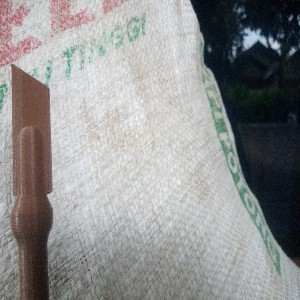cutter: (8, 61, 54, 300)
